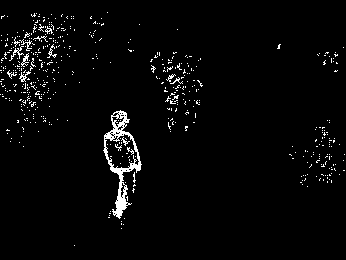person: (103, 110, 143, 219)
